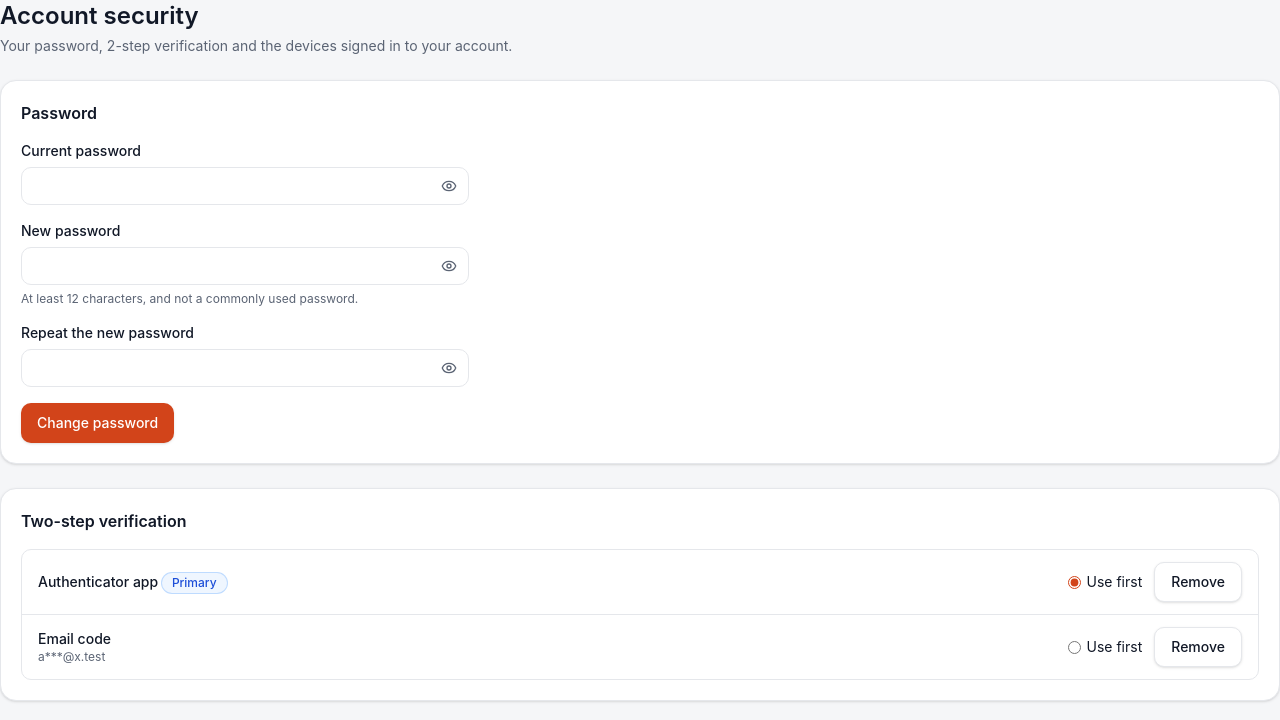
Test: /account/security › removing a method asks for STRONG re-authentication, then removes it
The image size is (1280, 720).
Step 1. Click the button "Remove" in the row of "Email code" → (1198, 647), box left=1154, top=627, right=1242, bottom=667
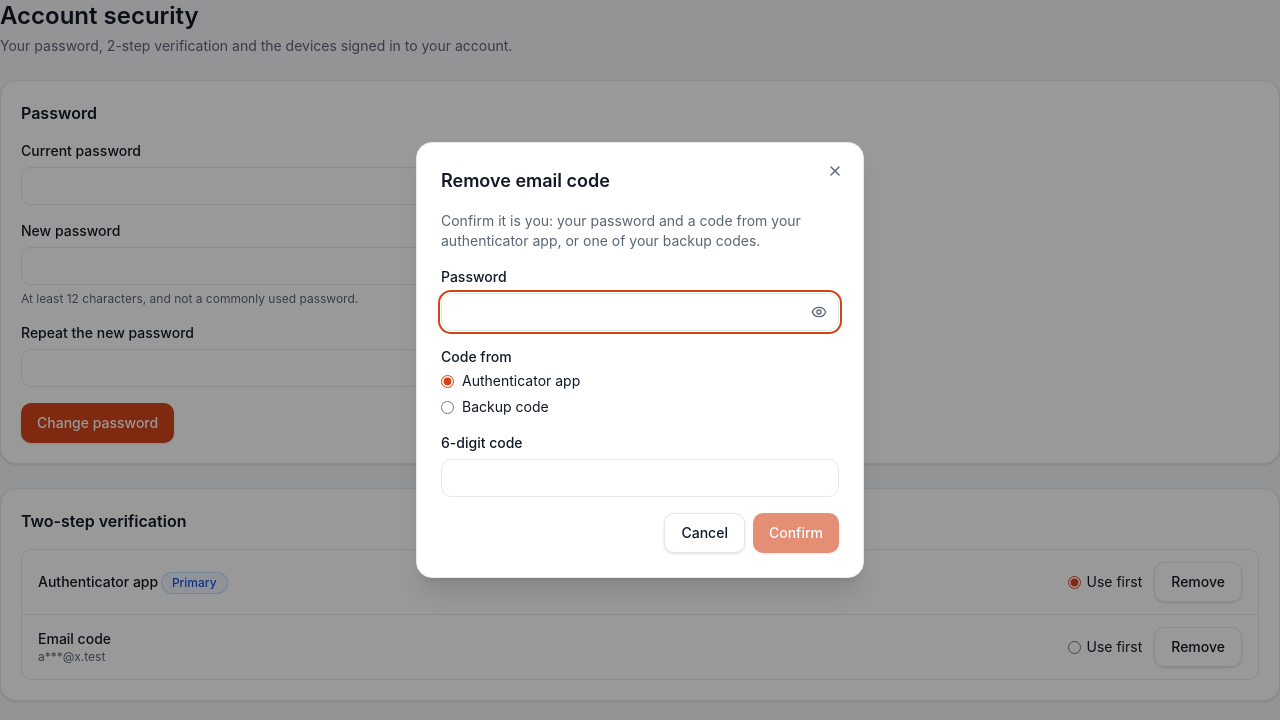
Now the heading "Remove email code" is shown, box left=441, top=170, right=610, bottom=191
Now the button "Confirm" is disabled, box left=753, top=513, right=839, bottom=553
Step 2. Type "my-password-12" into the password field labelled "Password" → (640, 312), box left=441, top=293, right=839, bottom=331
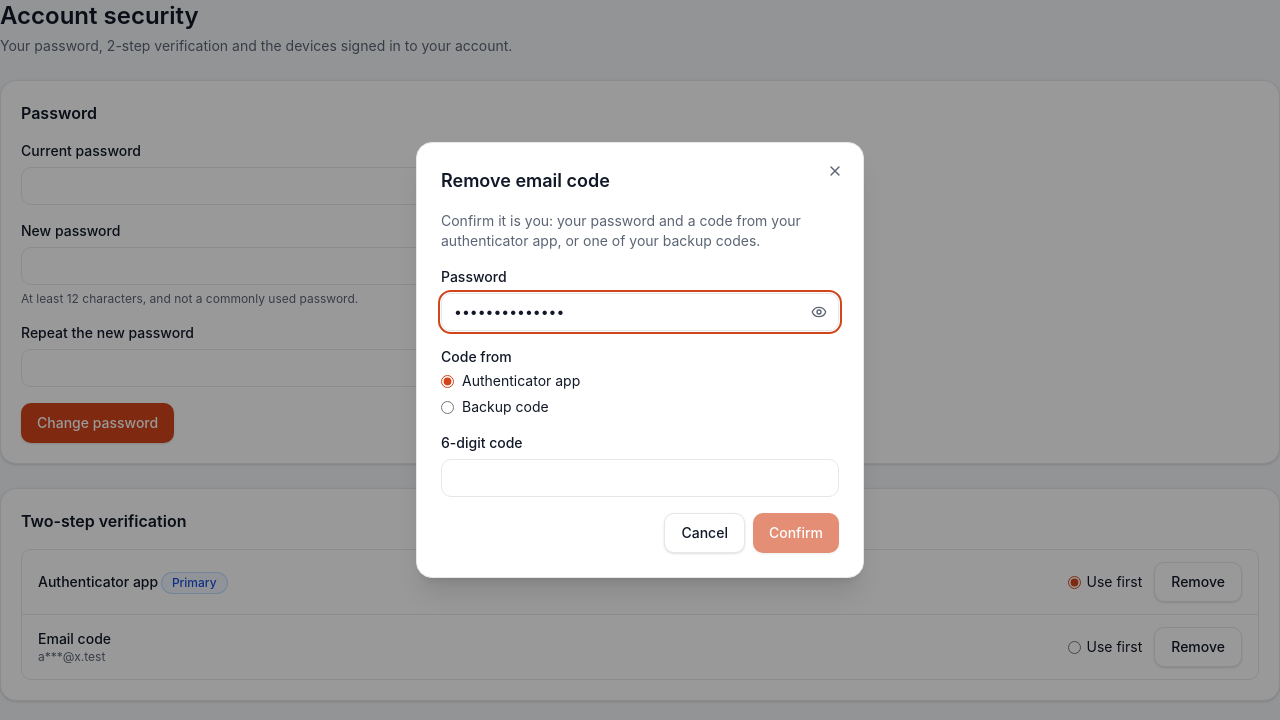
Step 3. Type "123456" into the field labelled "6-digit code" → (640, 478), box left=441, top=459, right=839, bottom=497
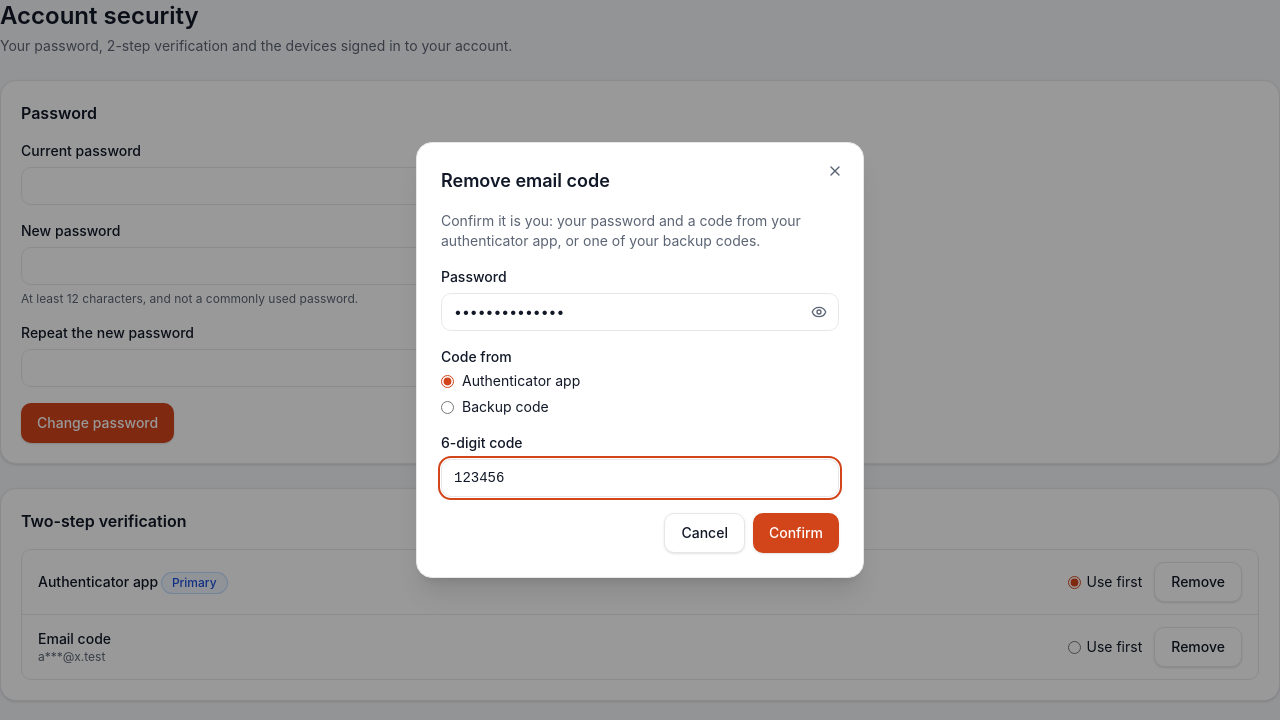
Step 4. Click the button "Confirm" → (796, 533), box left=753, top=513, right=839, bottom=553
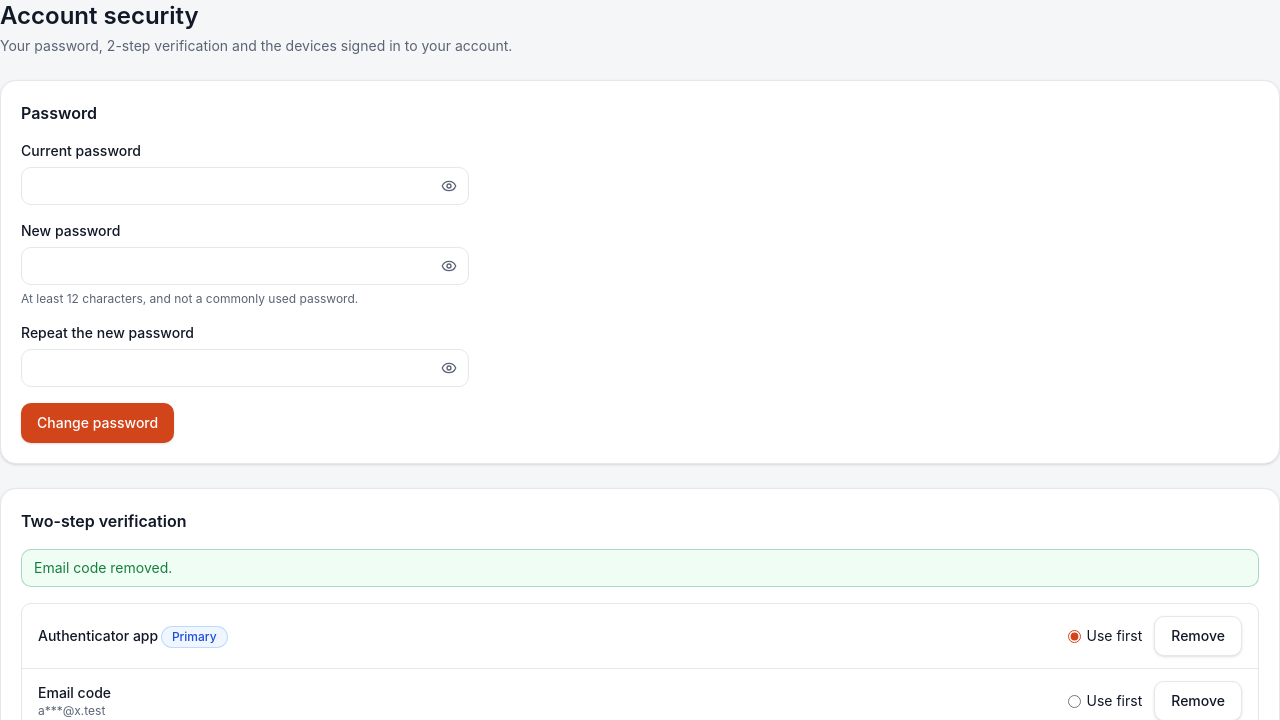
Now the text "Email code removed." is shown, box left=21, top=549, right=1259, bottom=587
